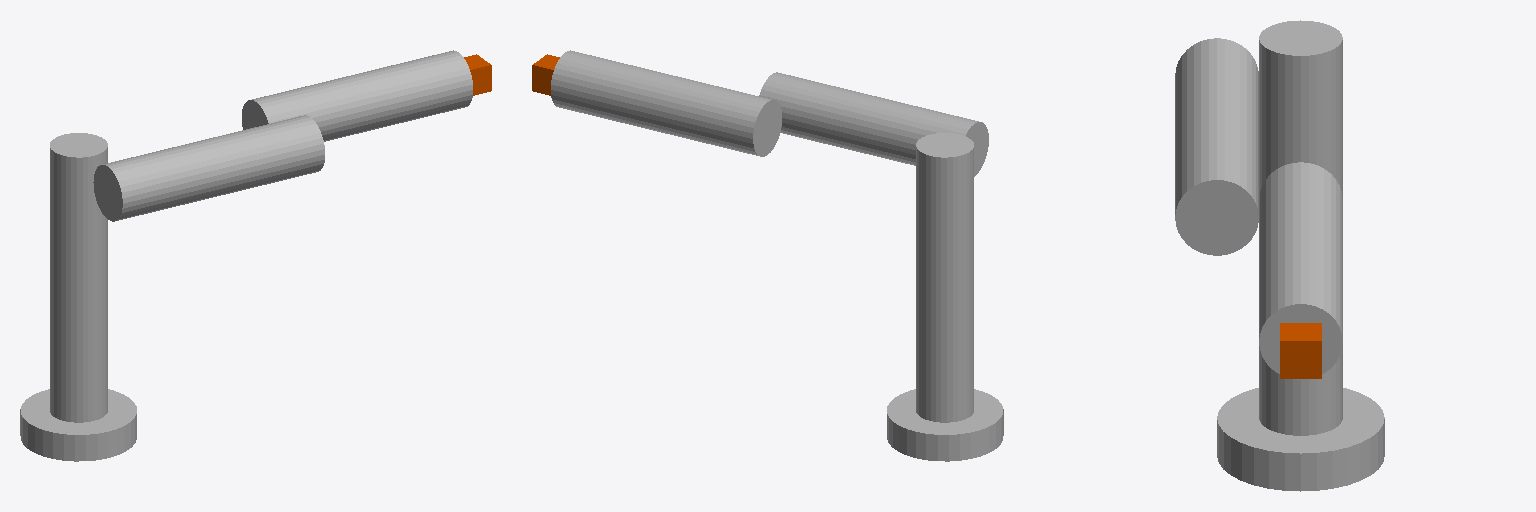
URDF robot description (cougarbot):
<?xml version="1.0"?>
<robot name="cougarbot">
    <link name="world"/>
    <link name="base_link">
        <visual>
            <geometry>
                <cylinder length="0.05" radius="0.1"/>
            </geometry>
            <material name="silver">
                <color rgba="0.75 0.75 0.75 1"/>
            </material>
            <origin rpy="0 0 0" xyz="0 0 0.025"/>
        </visual>
	    <collision>
	        <geometry>
                <cylinder length="0.05" radius="0.1"/>
            </geometry>
            <material name="silver"/>
	        <origin rpy="0 0 0" xyz="0 0 0.025"/>
	    </collision>
	    <inertial>
            <mass value="1.0"/>
            <origin rpy="0 0 0" xyz="0 0 0.025"/>
            <inertia ixx="0.0027" iyy="0.0027" izz="0.005" ixy="0" ixz="0" iyz="0"/>
        </inertial>
    </link>
    <joint name="fixed" type="fixed">
        <parent link="world"/>
        <child link="base_link"/>
    </joint>
    <link name="torso">
        <visual>
            <geometry>
                <cylinder length="0.5" radius="0.05"/>
            </geometry>
            <material name="silver">
                <color rgba="0.75 0.75 0.75 1"/>
            </material>
            <origin rpy="0 0 0" xyz="0 0 0.25"/>
        </visual>
        <collision>
            <geometry>
                <cylinder length="0.5" radius="0.05"/>
            </geometry>
            <material name="silver">
                <color rgba="0.75 0.75 0.75 1"/>
            </material>
            <origin rpy="0 0 0" xyz="0 0 0.25"/>
        </collision>
        <inertial>
            <mass value="1.0"/>
            <origin rpy="0 0 0" xyz="0 0 0.25"/>
            <inertia ixx="0.02149" iyy="0.02146" izz="0.00125" ixy="0" ixz="0" iyz="0"/>
        </inertial>
    </link>
    <joint name="hip" type="continuous">
        <axis xyz="0 0 1"/>
        <parent link="base_link"/>
        <child link="torso"/>
        <origin rpy="0 0 0" xyz="0.0 0.0 0.05"/>
    </joint>
    <transmission name="tran0">
        <type>transmission_interface/SimpleTransmission</type>
        <joint name="hip">
            <hardwareInterface>PositionJointInterface</hardwareInterface>
        </joint>
        <actuator name="motor0">
            <hardwareInterface>PositionJointInterface</hardwareInterface>
            <mechanicalReduction>1</mechanicalReduction>
        </actuator>
    </transmission>
    <link name="upper_arm">
        <visual>
            <geometry>
                <cylinder length="0.4" radius="0.05"/>
            </geometry>
            <material name="silver"/>
            <origin rpy="0 0 0" xyz="0 0 0.2"/>
        </visual>
        <collision>
            <geometry>
                <cylinder length="0.4" radius="0.05"/>
            </geometry>
            <material name="silver"/>
            <origin rpy="0 0 0" xyz="0 0 0.2"/>
        </collision>
        <inertial>
            <mass value="1.0"/>
            <origin rpy="0 0 0" xyz="0 0 0.2"/>
            <inertia ixx="0.01396" iyy="0.01396" izz="0.00125" ixy="0" ixz="0" iyz="0"/>
        </inertial>
    </link>
    <joint name="shoulder" type="continuous">
        <axis xyz="0 1 0"/>
        <parent link="torso"/>
        <child link="upper_arm"/>
        <origin rpy="0 1.5708 0" xyz="0.0 -0.1 0.45"/>
    </joint>
    <transmission name="tran1">
        <type>transmission_interface/SimpleTransmission</type>
        <joint name="shoulder">
            <hardwareInterface>PositionJointInterface</hardwareInterface>
        </joint>
        <actuator name="motor1">
            <hardwareInterface>PositionJointInterface</hardwareInterface>
            <mechanicalReduction>1</mechanicalReduction>
        </actuator>
    </transmission>
    <link name="lower_arm">
        <visual>
            <geometry>
                <cylinder length="0.4" radius="0.05"/>
            </geometry>
            <material name="silver"/>
            <origin rpy="0 0 0" xyz="0 0 0.2"/>
        </visual>
        <collision>
            <geometry>
                <cylinder length="0.4" radius="0.05"/>
            </geometry>
            <material name="silver"/>
            <origin rpy="0 0 0" xyz="0 0 0.2"/>
        </collision>
        <inertial>
            <mass value="1.0"/>
            <origin rpy="0 0 0" xyz="0 0 0.2"/>
            <inertia ixx="0.01396" iyy="0.01396" izz="0.00125" ixy="0" ixz="0" iyz="0"/>
        </inertial>
    </link>
    <joint name="elbow" type="continuous">
        <axis xyz="0 1 0"/>
        <parent link="upper_arm"/>
        <child link="lower_arm"/>
        <origin rpy="0 0 0" xyz="0.0 0.1 0.35"/>
    </joint>
    <transmission name="tran2">
        <type>transmission_interface/SimpleTransmission</type>
        <joint name="elbow">
            <hardwareInterface>PositionJointInterface</hardwareInterface>
        </joint>
        <actuator name="motor2">
            <hardwareInterface>PositionJointInterface</hardwareInterface>
            <mechanicalReduction>1</mechanicalReduction>
        </actuator>
    </transmission>
    <link name="hand">
        <visual>
            <geometry>
                <box size="0.05 0.05 0.05"/>
            </geometry>
            <material name="sliver"/>
        </visual>
        <collision>
            <geometry>
                <box size="0.05 0.05 0.05"/>
            </geometry>
            <material name="sliver"/>
        </collision>
        <inertial>
            <mass value="1.0"/>
            <inertia ixx="0.00042" iyy="0.00042" izz="0.000" ixy="0" ixz="0" iyz="0"/>
        </inertial>
    </link>
    <joint name="wrist" type="continuous">
        <axis xyz="0 1 0"/>
        <parent link="lower_arm"/>
        <child link="hand"/>
        <origin rpy="0 0 0" xyz="0.0 0.0 0.425"/>
    </joint>
    <transmission name="tran3">
        <type>transmission_interface/SimpleTransmission</type>
        <joint name="wrist">
            <hardwareInterface>PositionJointInterface</hardwareInterface>
        </joint>
        <actuator name="motor3">
            <hardwareInterface>PositionJointInterface</hardwareInterface>
            <mechanicalReduction>1</mechanicalReduction>
        </actuator>
    </transmission>
    <gazebo>
        <plugin name="control" filename="libgazebo_ros_control.so"/>
        <plugin name="joint_state_publisher" filename="libgazebo_ros_joint_state_publisher.so">
            <jointName>hip, shoulder, elbow, wrist</jointName>
        </plugin>
    </gazebo>
</robot>

--- Render facts (derived) ---
The picture shows the robot from 3 angles, left to right: view 1: azimuth 30°, elevation 25°; view 2: azimuth 150°, elevation 25°; view 3: azimuth 270°, elevation 25°; orthographic projection.
Model cougarbot with 6 links and 5 joints (4 continuous, 1 fixed), rooted at world, posed all joints at 0.
Links seen in each view (by area): view 1: torso, upper_arm, lower_arm, base_link, hand; view 2: torso, lower_arm, upper_arm, base_link, hand; view 3: torso, upper_arm, lower_arm, base_link, hand.
Boxes of the visible links, left/top/right/bottom form: torso: left=50, top=133, right=107, bottom=422; upper_arm: left=93, top=115, right=324, bottom=221; lower_arm: left=242, top=50, right=472, bottom=141; base_link: left=20, top=389, right=136, bottom=461; hand: left=464, top=54, right=491, bottom=95; torso: left=916, top=133, right=973, bottom=422; lower_arm: left=551, top=50, right=781, bottom=156; upper_arm: left=759, top=72, right=988, bottom=176; base_link: left=887, top=389, right=1003, bottom=461; hand: left=532, top=54, right=559, bottom=95; torso: left=1259, top=20, right=1342, bottom=435; upper_arm: left=1175, top=38, right=1258, bottom=255; lower_arm: left=1259, top=162, right=1342, bottom=379; base_link: left=1217, top=388, right=1384, bottom=491; hand: left=1280, top=323, right=1321, bottom=378.
Size in the robot's own frame: 0.9 by 0.25 by 0.55 metres.
Geometry: primitives only (box / cylinder / sphere), no mesh files.
